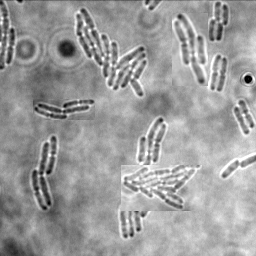Dividing: (238, 99, 255, 128), (209, 54, 222, 90), (217, 56, 228, 92), (7, 27, 17, 64)
Microcolony: (76, 7, 147, 98), (121, 165, 202, 211), (172, 13, 208, 86), (32, 135, 57, 211), (120, 195, 155, 238), (137, 117, 168, 164), (33, 99, 95, 120), (208, 1, 229, 42)
Rod: (233, 106, 251, 135), (222, 157, 240, 178)
